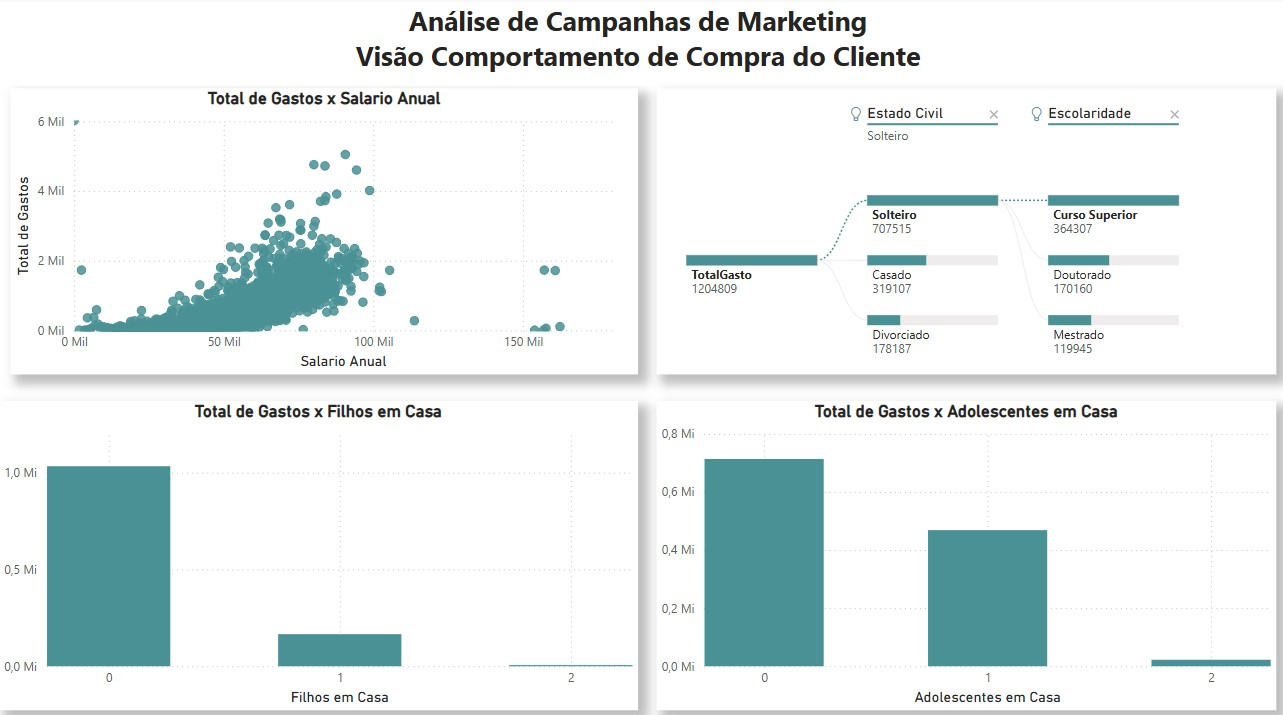

The page's visual inventory and layout, read from the dashboard file:
{"tool":"powerbi","page":{"name":"Visão Comportamento","canvas":[1280,720],"ordinal":1},"visuals":[{"type":"scatterChart","title":"Total de Gastos x Salario Anual","fields":{"X":["DadosMarketing.Salario Anual"],"Y":["DadosMarketing.TotalGasto"]},"box":[11,90.4,624.7,284.9],"z":0},{"type":"textbox","box":[0,0,1271.9,88.1],"z":1000},{"type":"clusteredColumnChart","title":"Total de Gastos x Filhos em Casa","fields":{"Y":["DadosMarketing.TotalGasto"],"Category":["DadosMarketing.Filhos em Casa"]},"box":[0,401.4,635.6,308.2],"z":2000},{"type":"clusteredColumnChart","title":"Total de Gastos x Adolescentes em Casa","fields":{"Y":["DadosMarketing.TotalGasto"],"Category":["DadosMarketing.Adolescentes em Casa"]},"box":[654.8,401.4,616.4,308.2],"z":3000},{"type":"decompositionTreeVisual","fields":{"Analyze":["DadosMarketing.TotalGasto"],"ExplainBy":["DadosMarketing.Estado Civil","DadosMarketing.Escolaridade"]},"box":[654.8,90.4,616.4,284.9],"z":4000}]}

Visuals, with their boxes in screenshot pixels (x1, y1, x2, y2), scaled from the page's 1280x720 canvas onto the 1283x715 screenshot:
"Total de Gastos x Salario Anual" scatterChart: [11,90,637,373]
textbox: [0,0,1275,87]
"Total de Gastos x Filhos em Casa" clusteredColumnChart: [0,399,637,705]
"Total de Gastos x Adolescentes em Casa" clusteredColumnChart: [656,399,1274,705]
decompositionTreeVisual - DadosMarketing.TotalGasto x DadosMarketing.Estado Civil: [656,90,1274,373]
